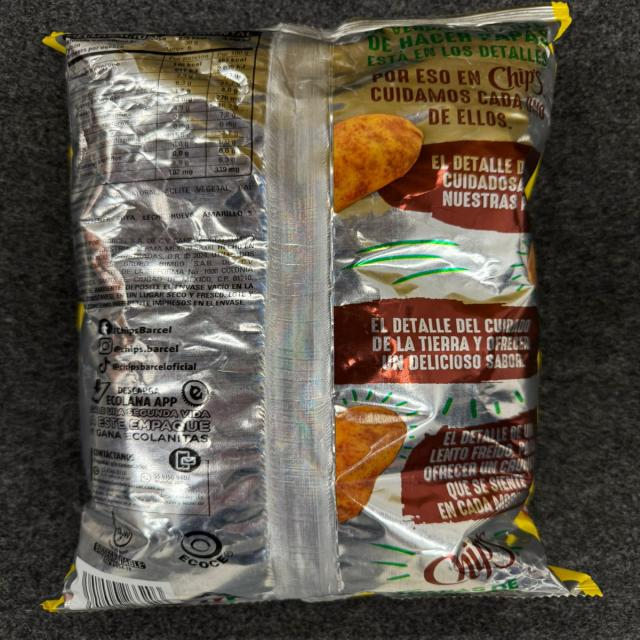Papas Chips Barcel 170 gr bolsa con sal: (32, 0, 625, 616)
